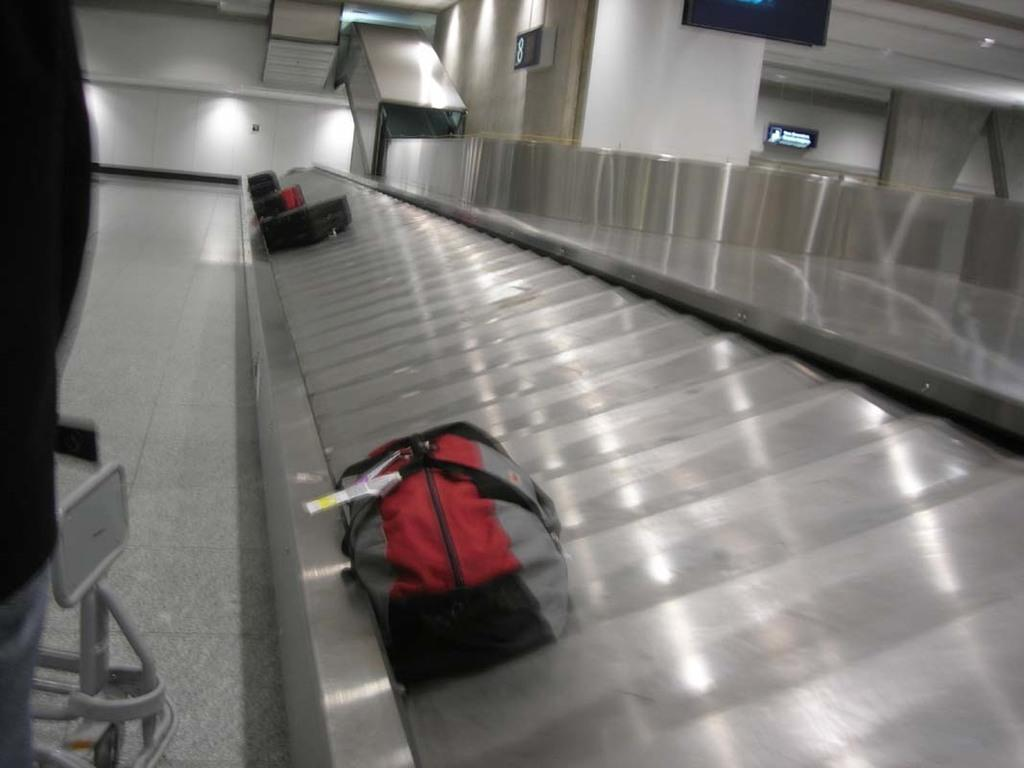Luggage-and-bags: (300, 432, 566, 677), (261, 191, 360, 255), (254, 186, 309, 225), (239, 168, 282, 200)
